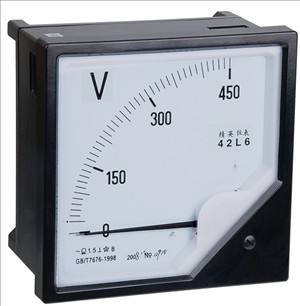pointer: (53, 43, 279, 290)
